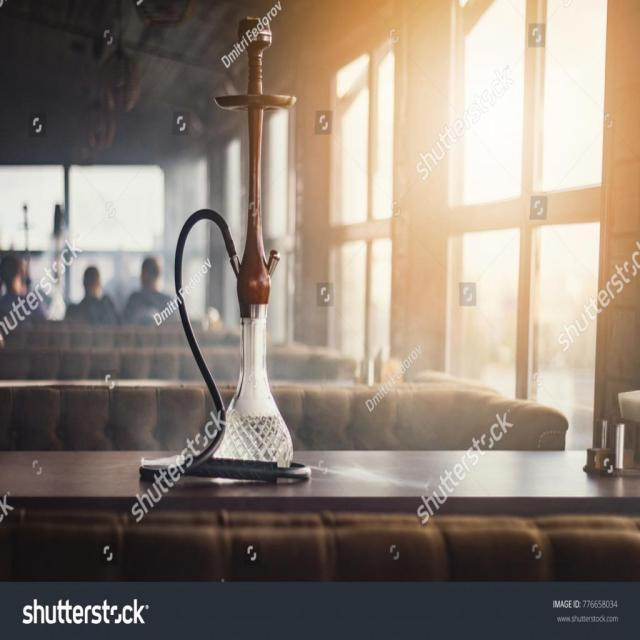smoking: (121, 14, 311, 489)
